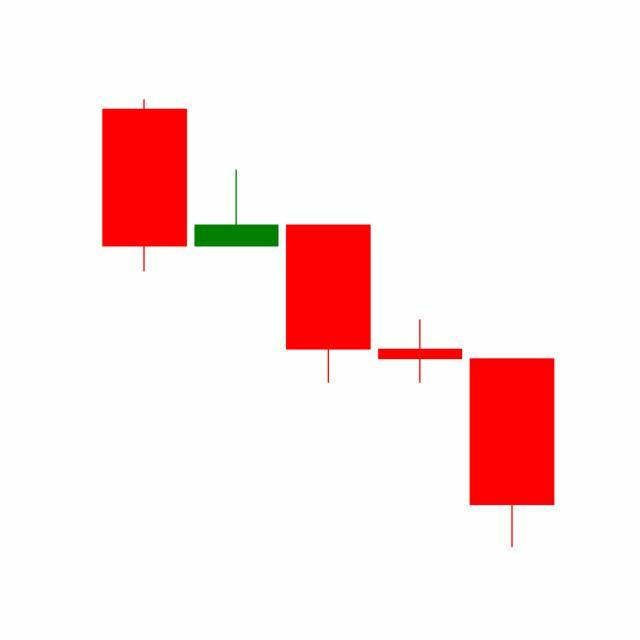Spinning Top: (374, 319, 468, 385)
